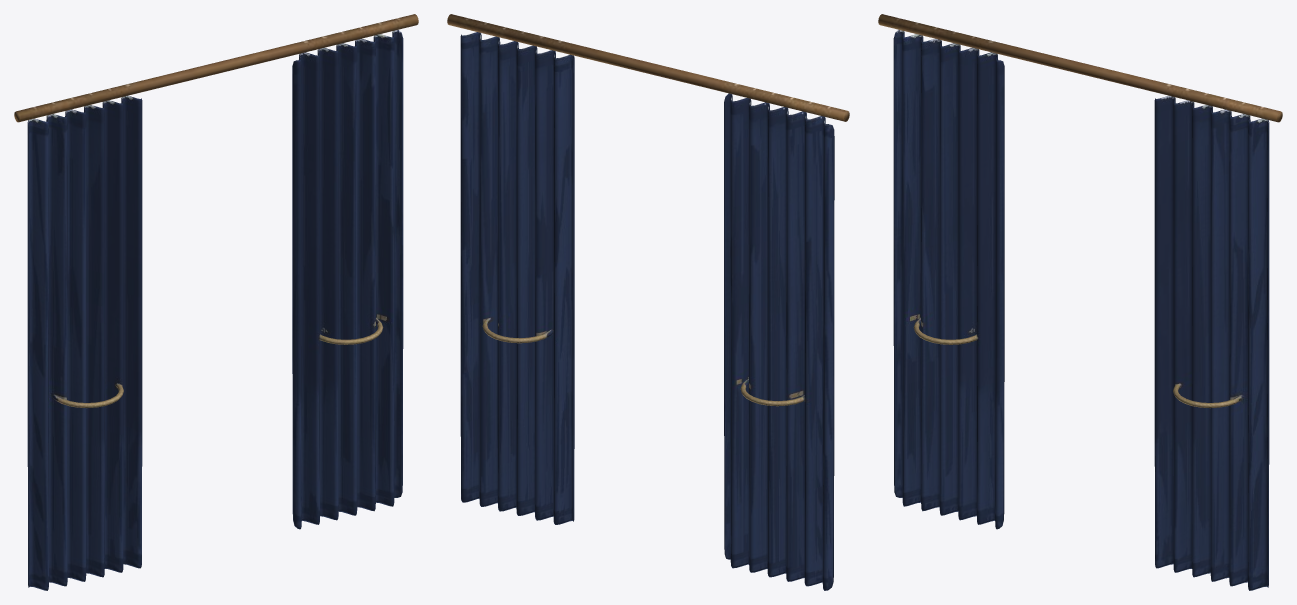
File: curtain_indigo.glb
3 views of the same model, side by side, from view 1: azimuth 30°, elevation 25°; view 2: azimuth 150°, elevation 25°; view 3: azimuth 330°, elevation 25° (orthographic).
Parts seen in each view (by area): view 1: prop_curtain_indigo_felt, prop_curtain_indigo_wood; view 2: prop_curtain_indigo_felt, prop_curtain_indigo_wood; view 3: prop_curtain_indigo_felt, prop_curtain_indigo_wood.
Boxes of the visible parts, x1,y1,x2,y2 form: prop_curtain_indigo_felt: (27, 30, 403, 590); prop_curtain_indigo_wood: (14, 14, 418, 122); prop_curtain_indigo_felt: (460, 32, 834, 590); prop_curtain_indigo_wood: (447, 14, 849, 121); prop_curtain_indigo_felt: (893, 30, 1269, 590); prop_curtain_indigo_wood: (878, 14, 1282, 122).
Size of the model in its own units: 3.2 by 3.7 by 0.516.
Materials: 2 (2 with a texture image).
